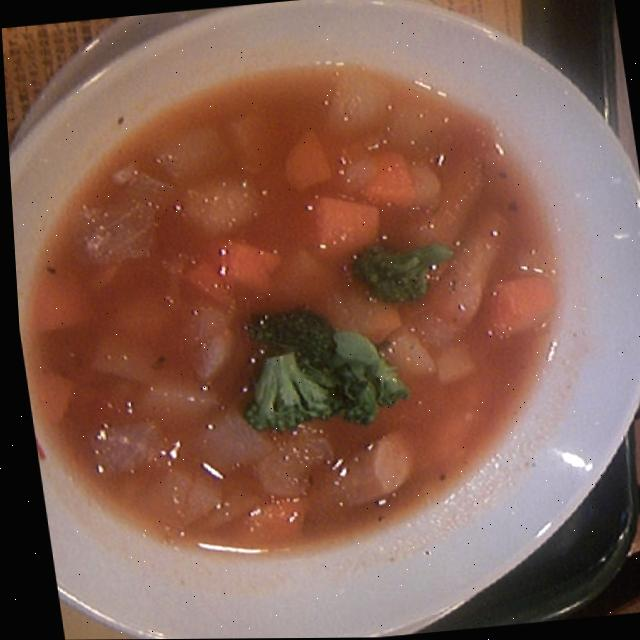汤锅炖物: (2, 33, 597, 583)
